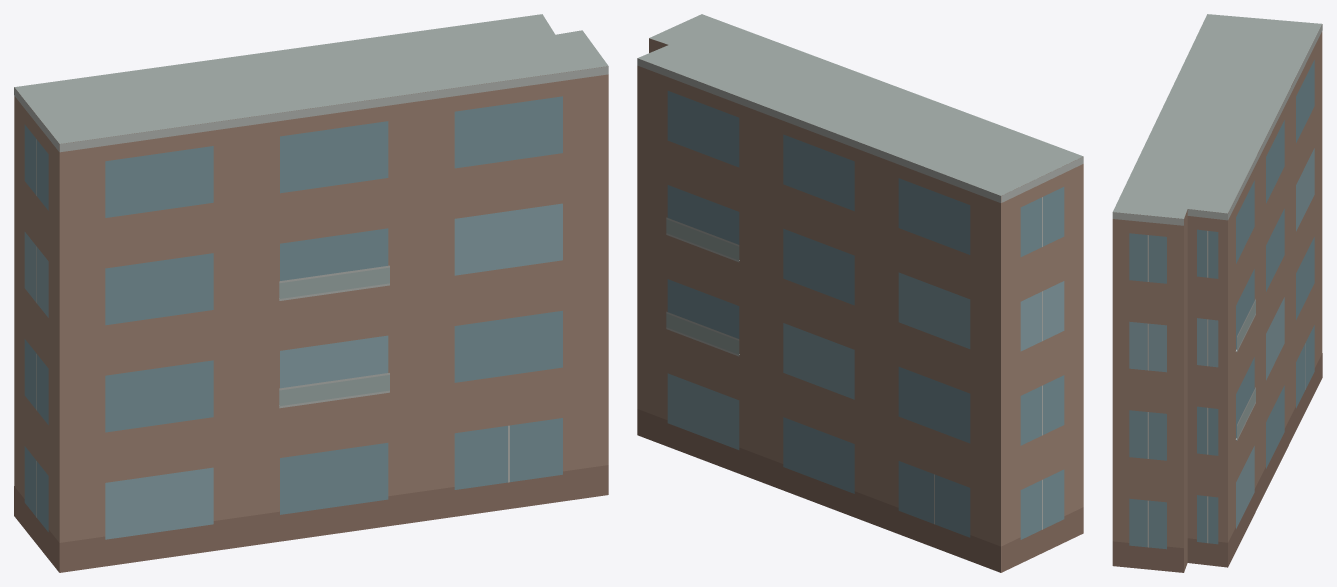
Rendered from survey-upis-33034630.glb.
3 views of the same model, side by side, from view 1: azimuth 30°, elevation 25°; view 2: azimuth 150°, elevation 25°; view 3: azimuth 270°, elevation 25° (orthographic). The views are drawn at different scales.
Visible parts, largest first — view 1: survey-upis-33034630.tmp; view 2: survey-upis-33034630.tmp; view 3: survey-upis-33034630.tmp.
Boxes of the visible parts, x1,y1,x2,y2 form: survey-upis-33034630.tmp: (14, 14, 608, 572); survey-upis-33034630.tmp: (637, 14, 1083, 572); survey-upis-33034630.tmp: (1112, 14, 1322, 572).
Size of the model in its own units: 15.61 by 12.56 by 6.75.
